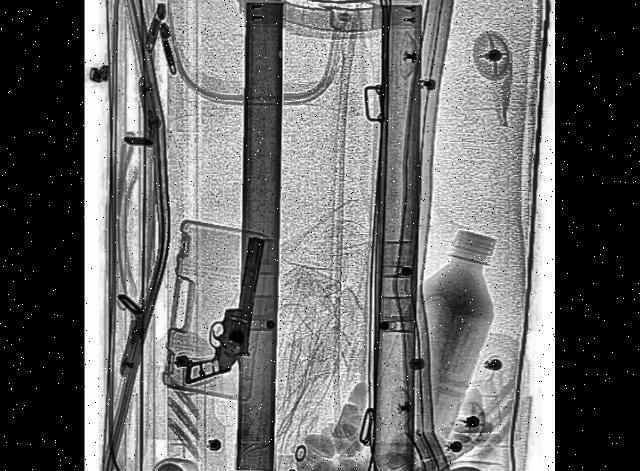Gun: (185, 219, 268, 401)
